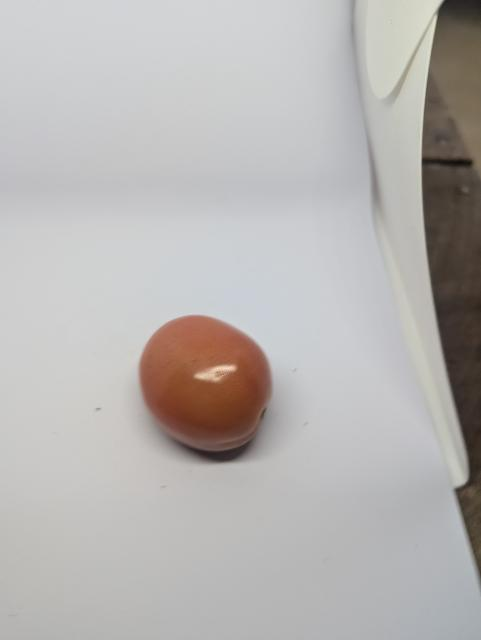red: (132, 309, 282, 460)
